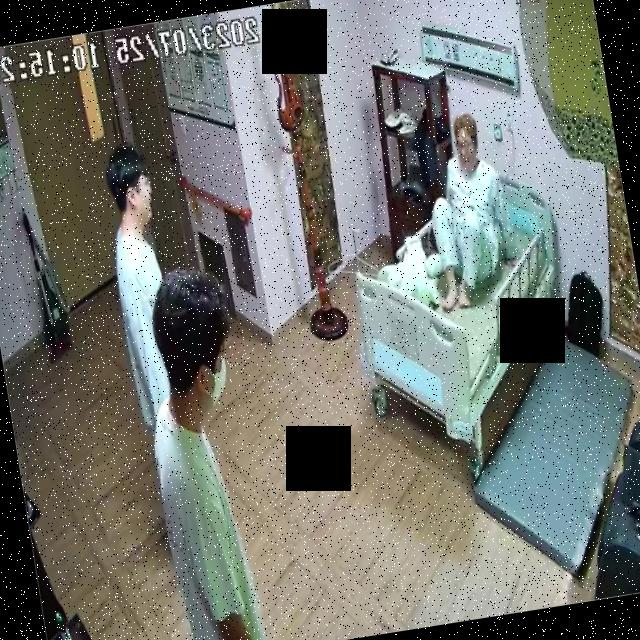bed: (340, 166, 585, 460)
sit: (128, 262, 282, 640), (415, 110, 523, 314)
